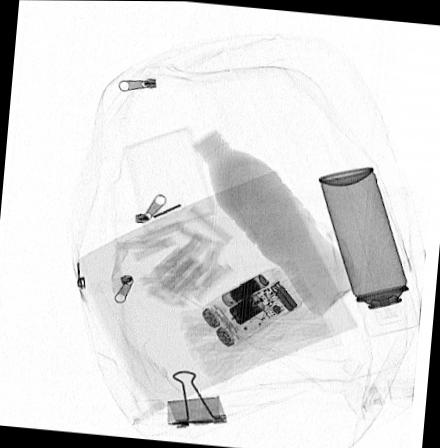Sprayer: (316, 167, 419, 339)
